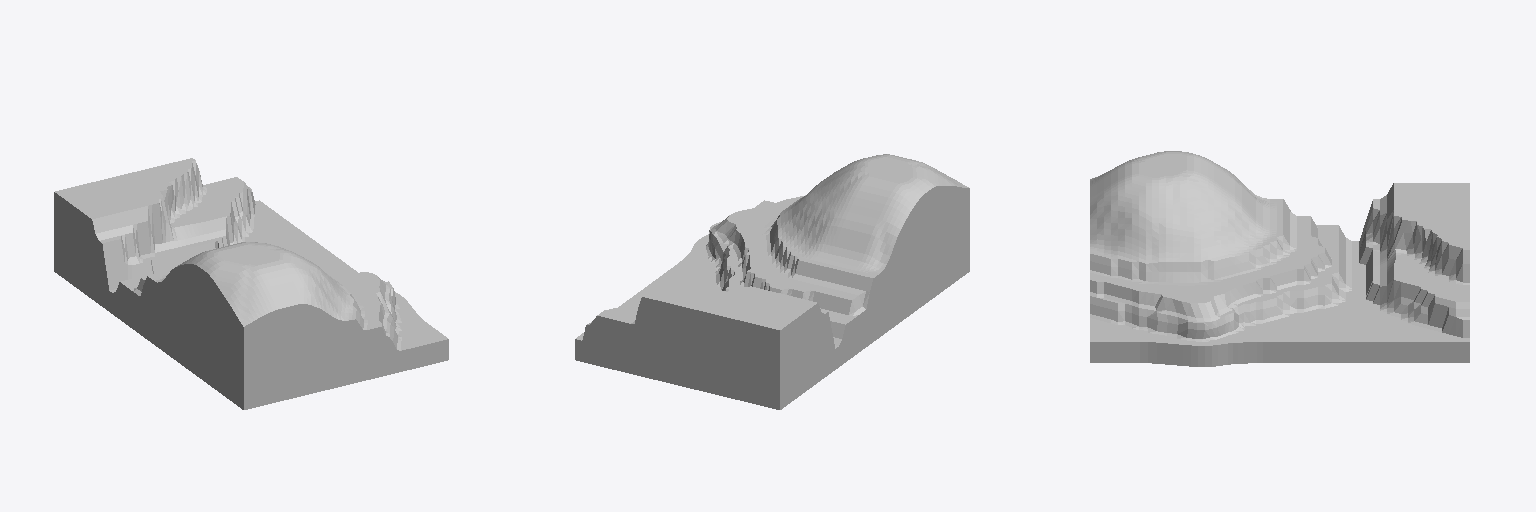
File: mountain.obj
The picture shows the model from 3 angles: view 1: azimuth 30°, elevation 25°; view 2: azimuth 150°, elevation 25°; view 3: azimuth 270°, elevation 25°; orthographic projection.
Parts seen in each view (by area): view 1: Mountain.merged_Cube.003; view 2: Mountain.merged_Cube.003; view 3: Mountain.merged_Cube.003.
Boxes of the visible parts, <box> form: Mountain.merged_Cube.003: <box>54,158,448,409</box>; Mountain.merged_Cube.003: <box>575,154,969,409</box>; Mountain.merged_Cube.003: <box>1090,151,1469,366</box>.
Bounding box in the file's own units: 23.52 × 12.36 × 36.08.